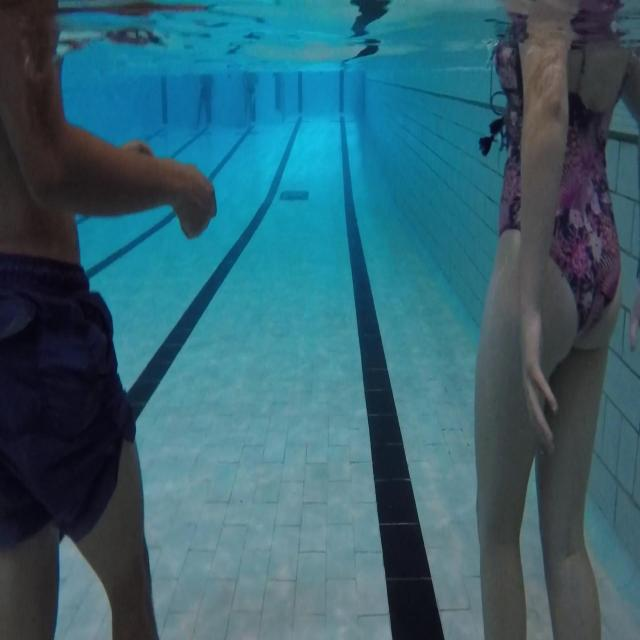human: (0, 1, 217, 638), (473, 1, 639, 638)
